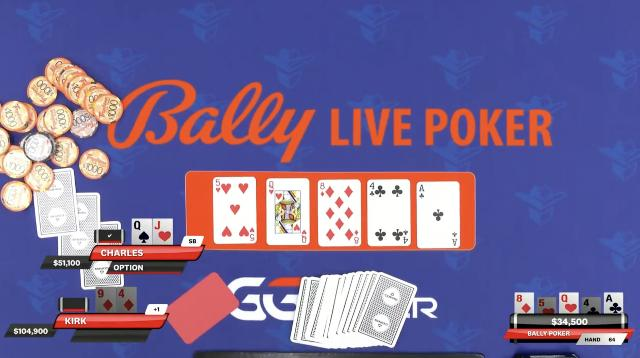4C: (582, 298, 600, 316)
5H: (538, 298, 556, 314)
8D: (516, 294, 534, 314)
AC: (604, 294, 624, 314)
JH: (152, 219, 174, 245)
QH: (560, 294, 578, 314)
QS: (132, 220, 152, 246)
